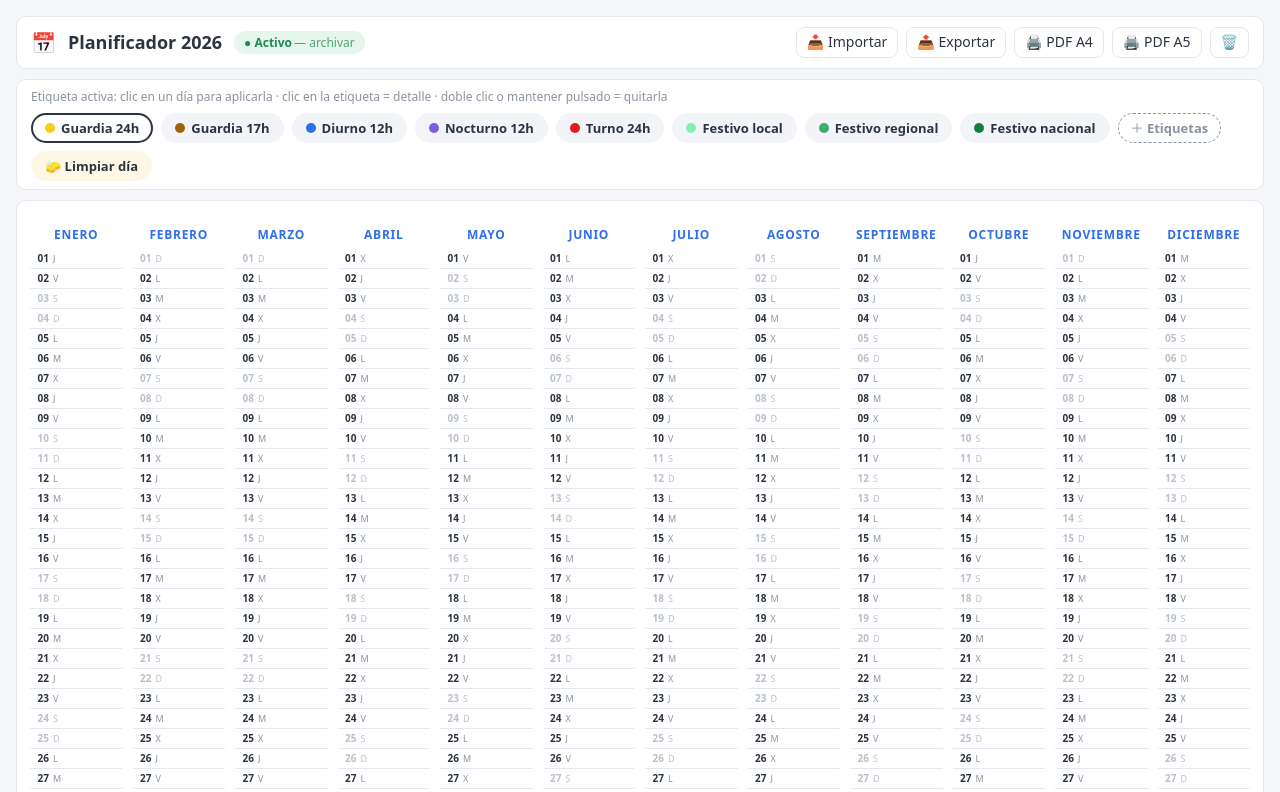
filling days › accepts a second tag but rejects the third with a toast
This screenshot has width=1280, height=792.
Click the 1st text with class "day__number".
click(43, 258)  # box [38,251,49,265]
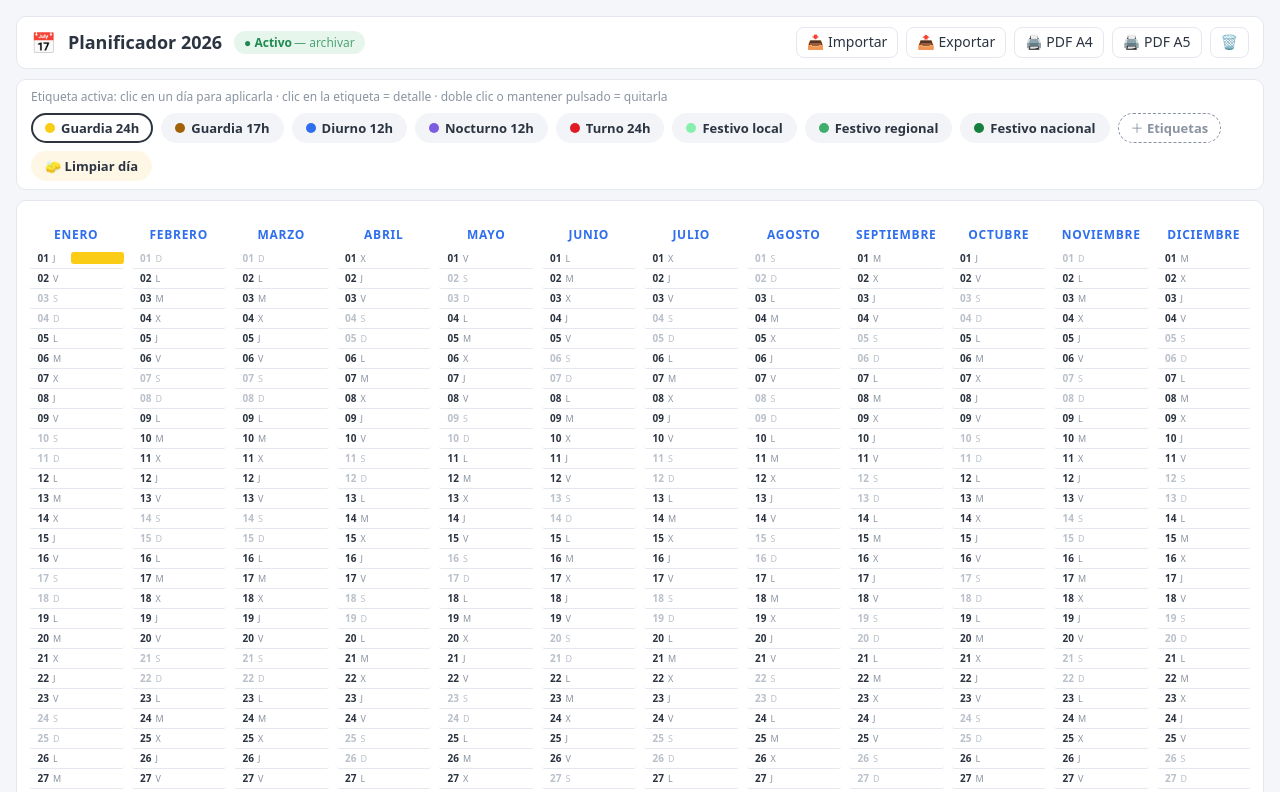
Click the button with class "chip" showing "Festivo local".
click(735, 128)  # box [672,113,797,143]
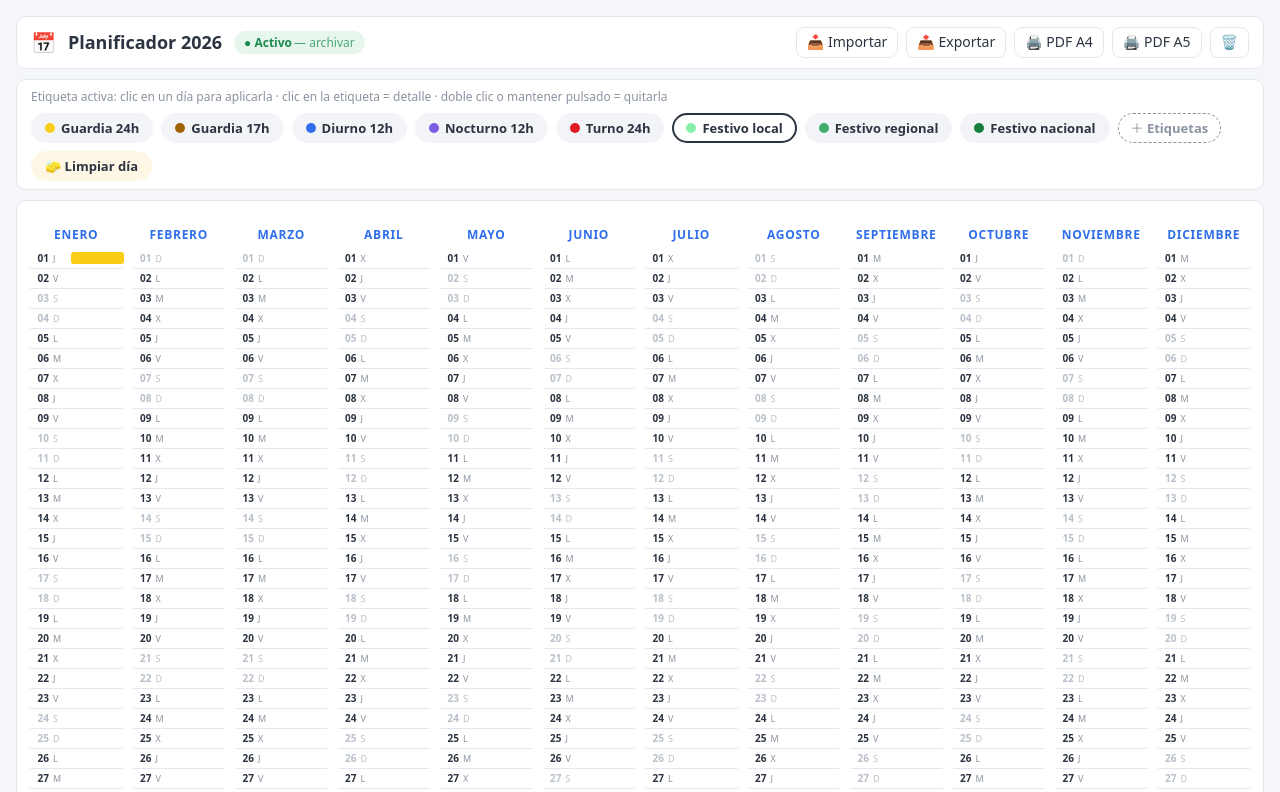
Click the 1st text with class "day__number".
click(43, 258)  # box [38,251,49,265]
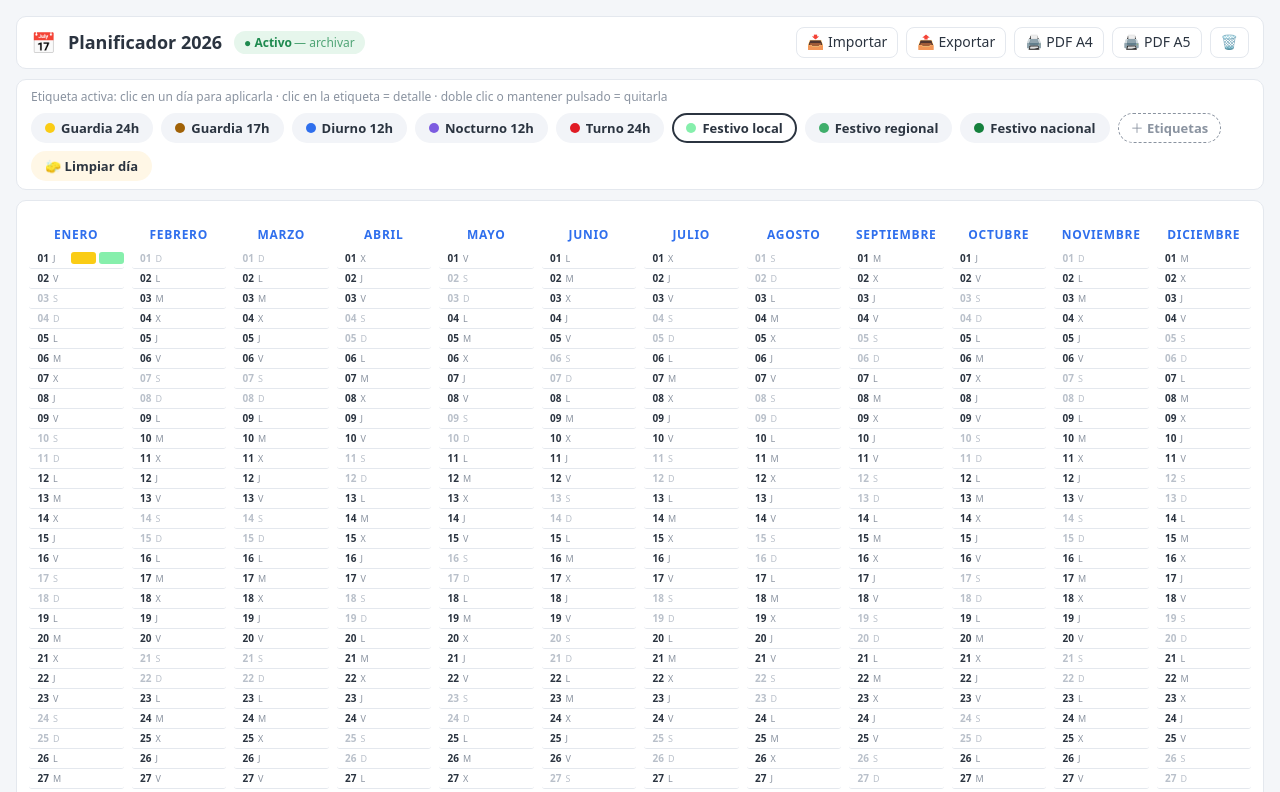
Click the button with class "chip" showing "Diurno 12h".
click(349, 128)  # box [292,113,407,143]
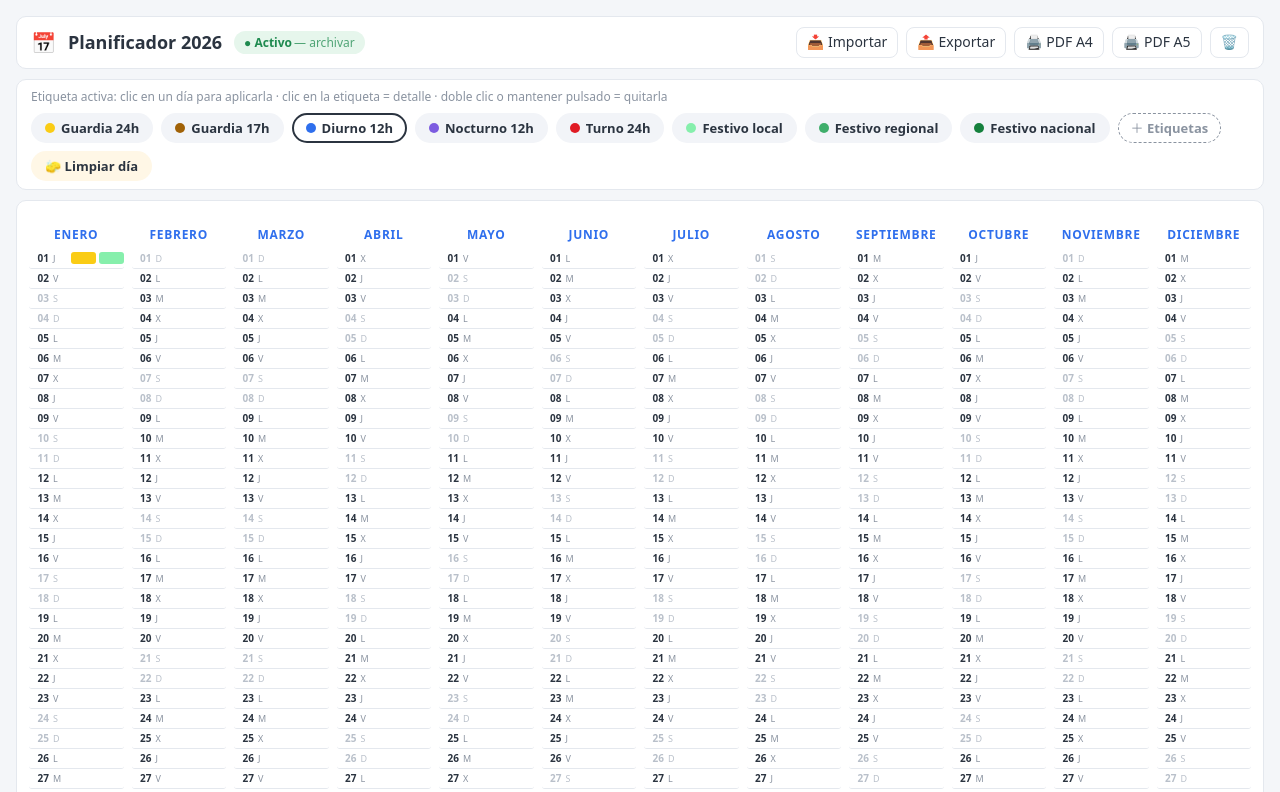
Click the 1st text with class "day__number".
click(43, 258)  # box [38,251,49,265]
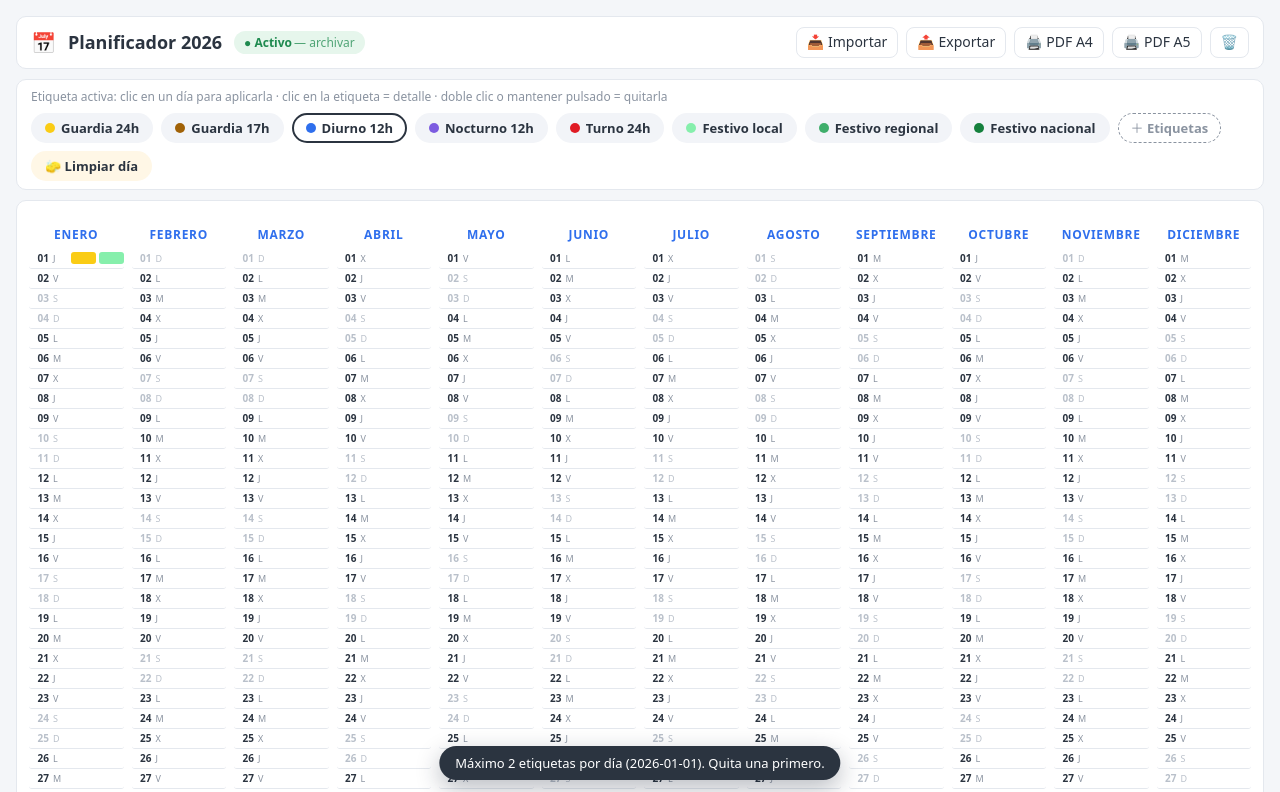
expect the message with class "toast" shows "Máximo 2 etiquetas": met, box [455,754,825,772]
